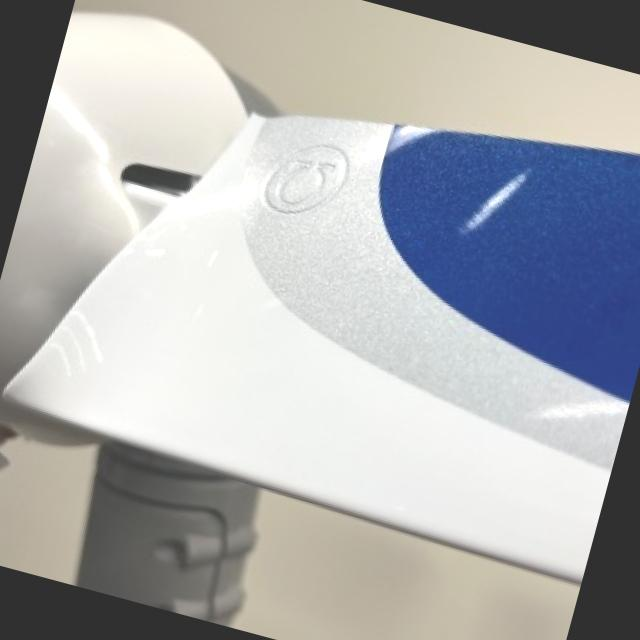healthy: (0, 10, 640, 579)
